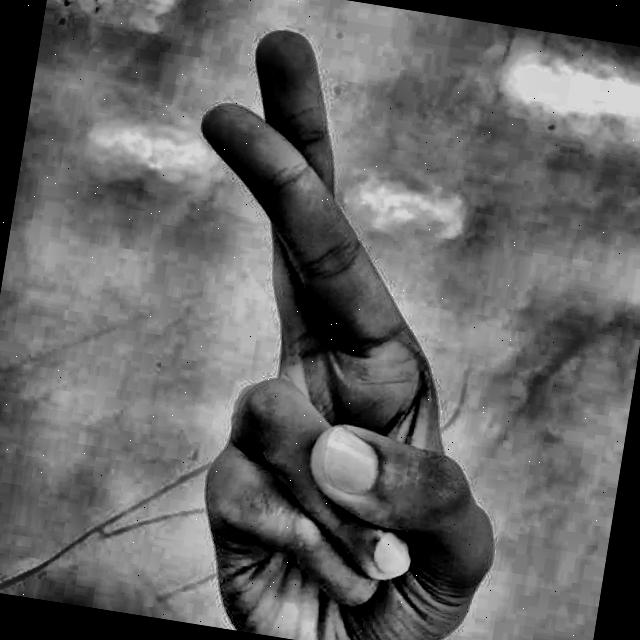Ra: (87, 0, 593, 640)
